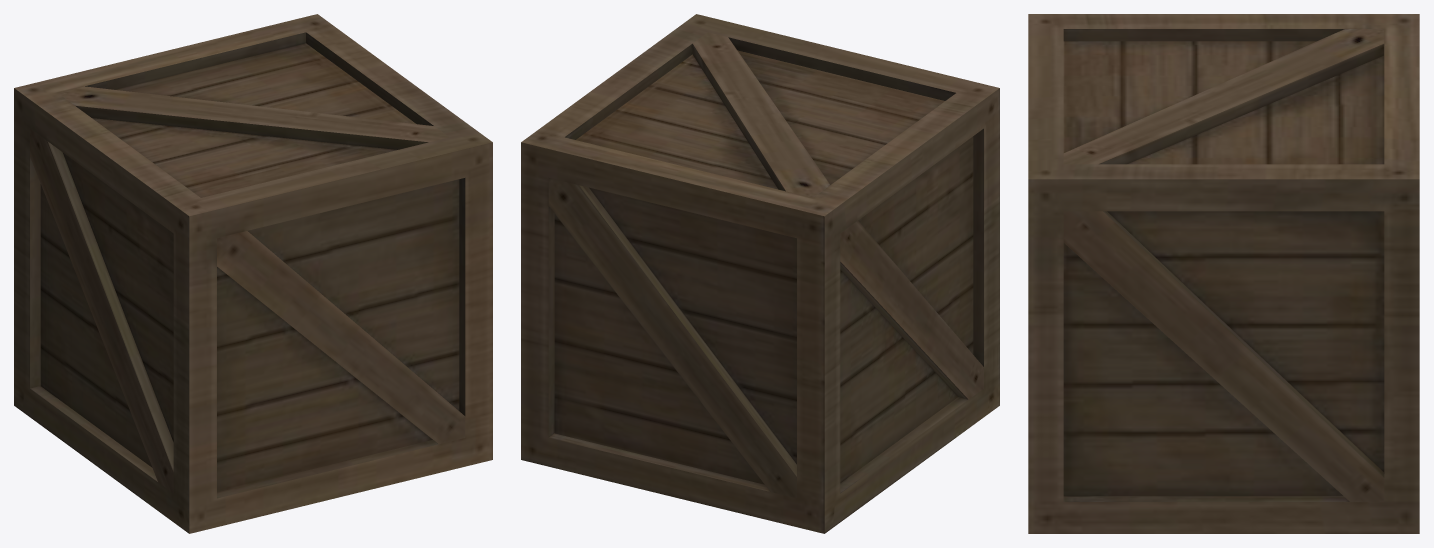
The model's file is crate.glb.
The picture shows the model from 3 angles, left to right: view 1: azimuth 30°, elevation 25°; view 2: azimuth 150°, elevation 25°; view 3: azimuth 270°, elevation 25°; orthographic projection. The views are drawn at different scales.
Visible parts, largest first — view 1: crate1; view 2: crate1; view 3: crate1.
Boxes of the visible parts, <box> form: crate1: <box>14,14,492,533</box>; crate1: <box>521,14,999,533</box>; crate1: <box>1028,14,1419,533</box>.
Size of the model in its own units: 0.8817 by 0.8819 by 0.8821.
Materials: 1 (1 with a texture image).
